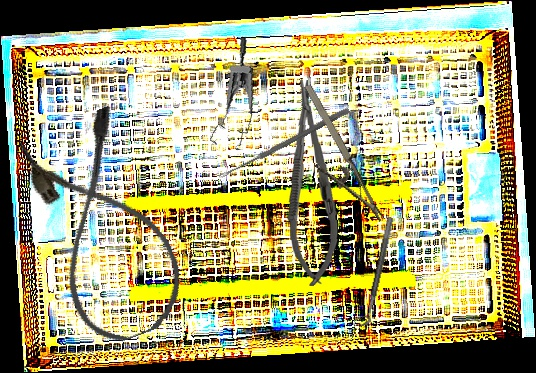Cannula: (11, 102, 198, 354)
Fixation Ring: (353, 214, 395, 328)
Needle Holder: (281, 81, 385, 237), (280, 78, 342, 287)
Speculum: (193, 37, 267, 155)
Surgical Spoon: (217, 106, 351, 181)
